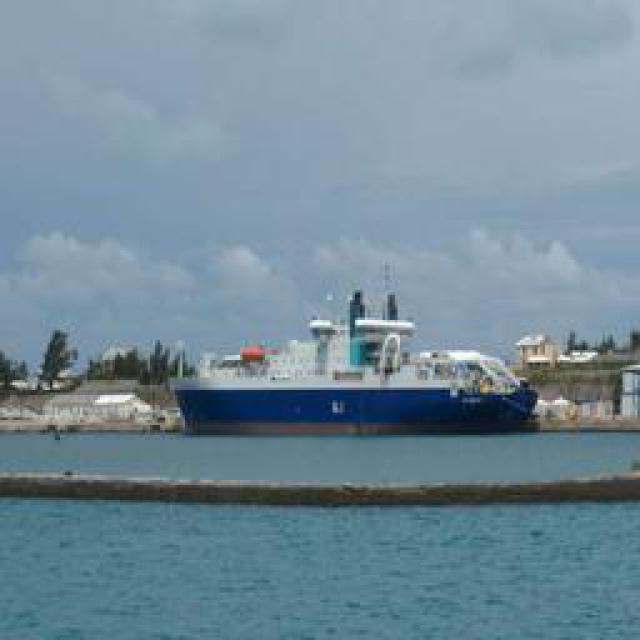Ship: (171, 277, 559, 435)
